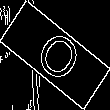O_SW: (26, 22, 84, 88)
